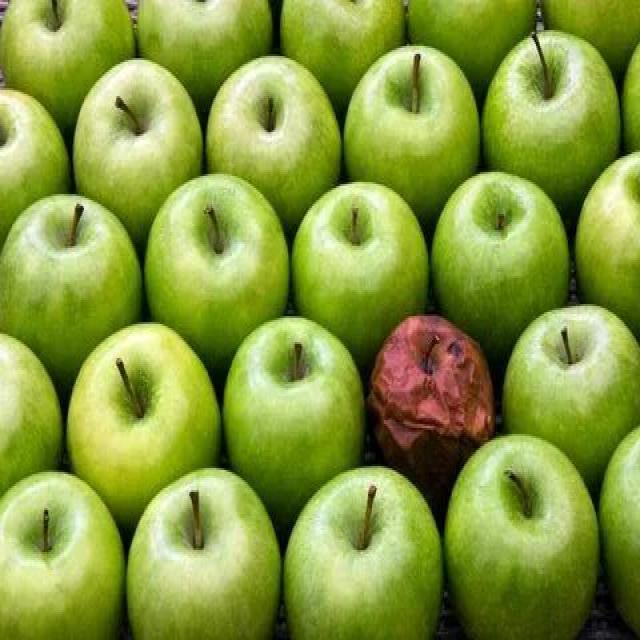Fresh Apple: (442, 440, 602, 640), (294, 458, 438, 632), (218, 324, 367, 488), (130, 471, 266, 640), (70, 336, 212, 492), (150, 183, 283, 340), (516, 308, 640, 471), (300, 192, 428, 335), (436, 178, 556, 322)
Rotten: (380, 328, 492, 475)
